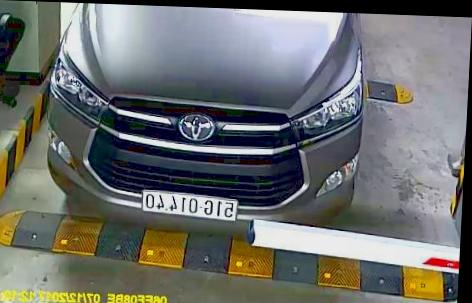License_Plate: (139, 187, 242, 225)
